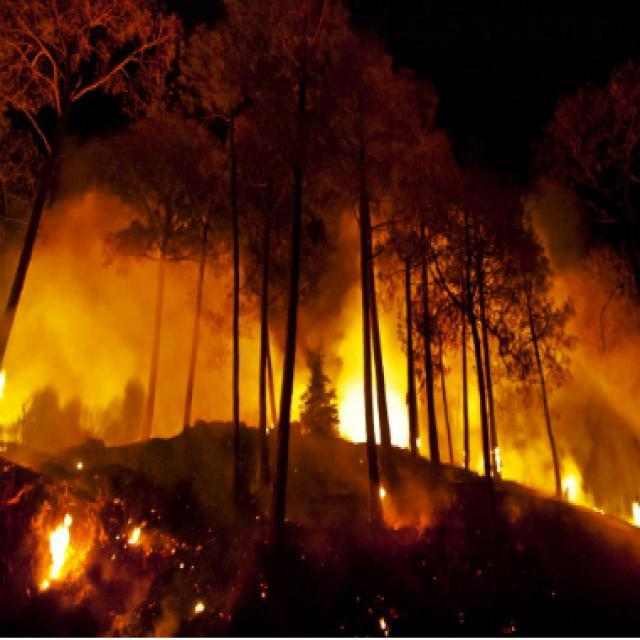Fire: (30, 464, 152, 606), (326, 348, 464, 457), (536, 442, 590, 514), (606, 454, 640, 548), (481, 421, 515, 487), (0, 350, 14, 442)
Smoke: (0, 170, 269, 434), (454, 175, 640, 464)
